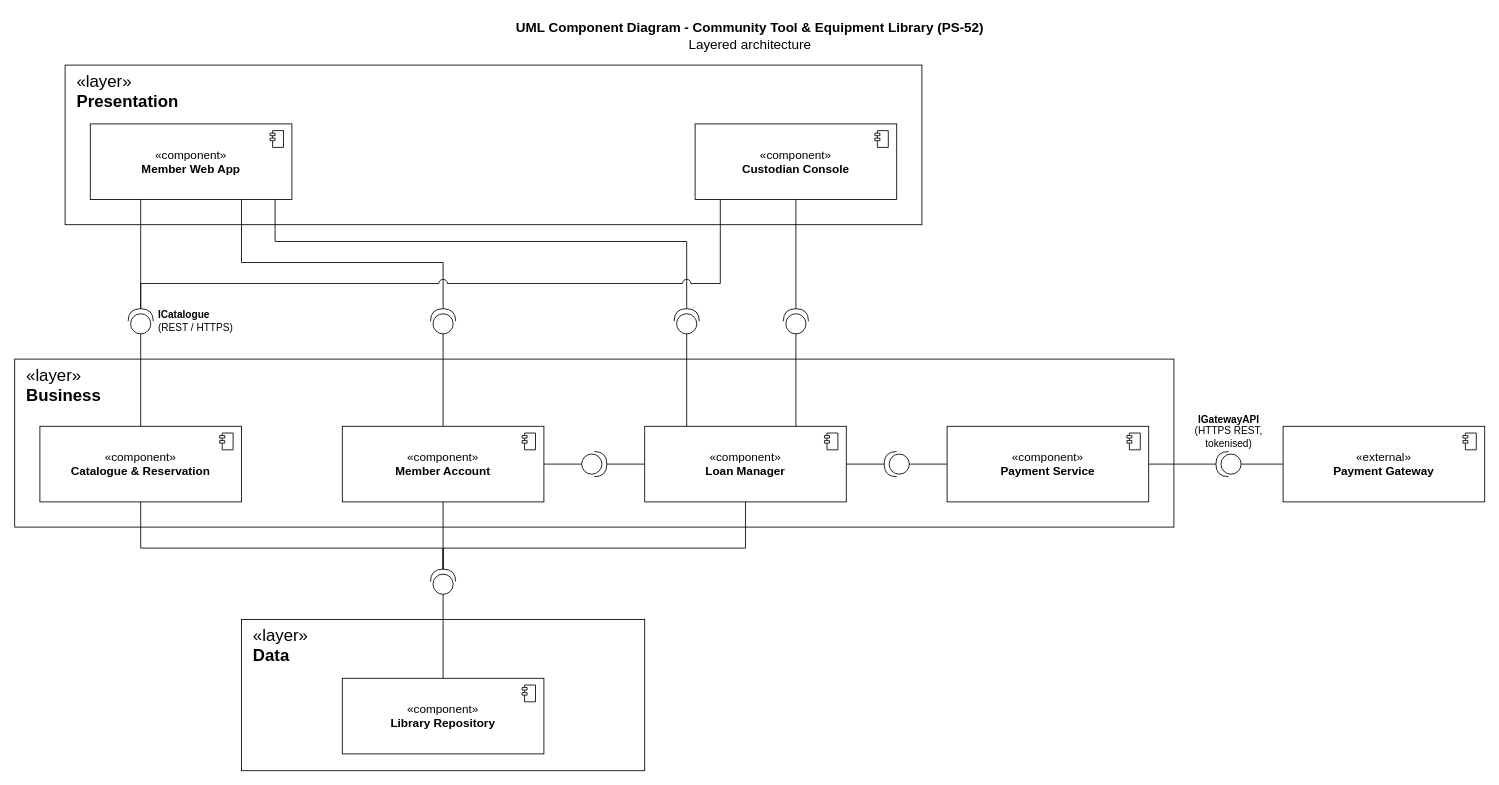
Some shapes in this 1499 by 785 pixel diagram are drawn without their labels. The shapes that lost their labels are listed below. From the top down, each one's centre as x and y in pixels, then its label:
the point at 443,321: IAuth (REST / HTTPS)
the point at 686,321: ICheckout (REST / HTTPS)
the point at 795,321: IReturn (REST / HTTPS)
the point at 594,464: IEligibility (internal API call)
the point at 896,464: IPayment (internal API call)
the point at 443,581: IRepository (SQL queries)
